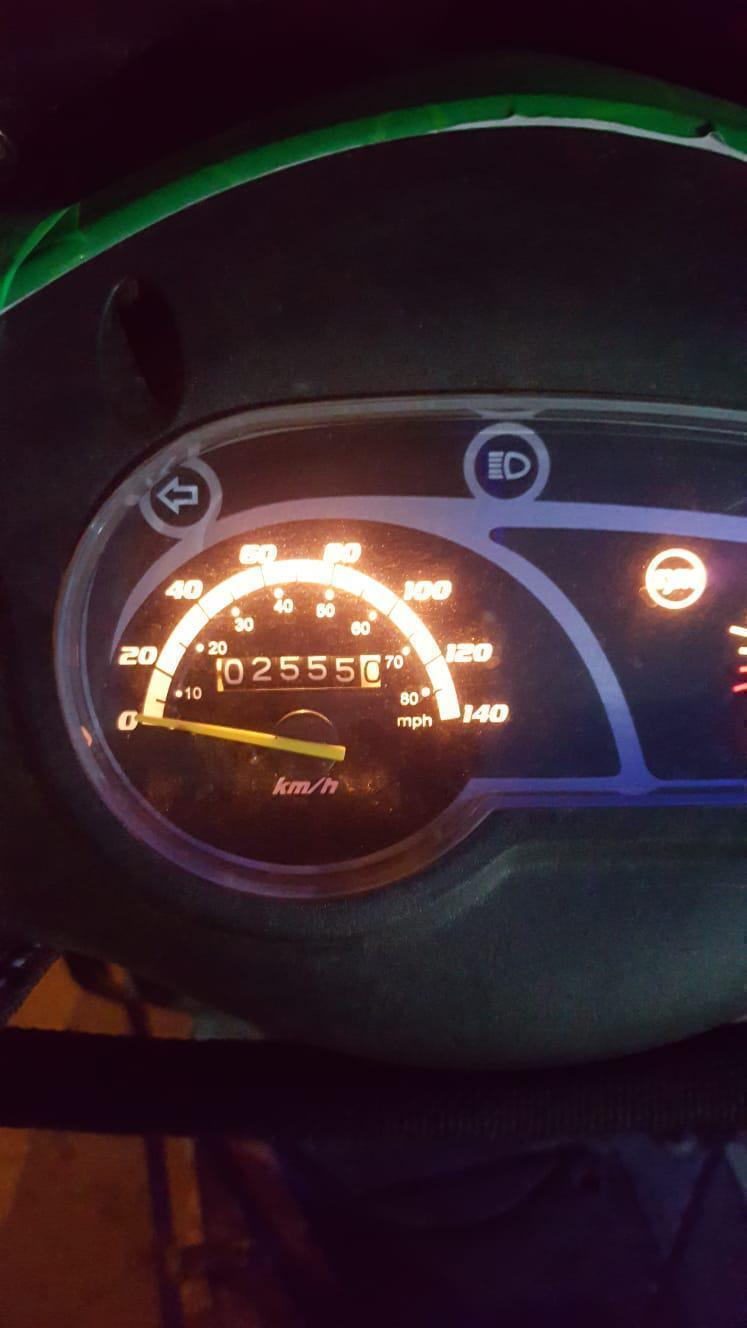0: (222, 658, 245, 684), (363, 658, 382, 684)
2: (250, 654, 274, 683)
5: (304, 655, 329, 680), (334, 656, 356, 682), (278, 655, 300, 681)
odometer: (214, 651, 385, 691)
